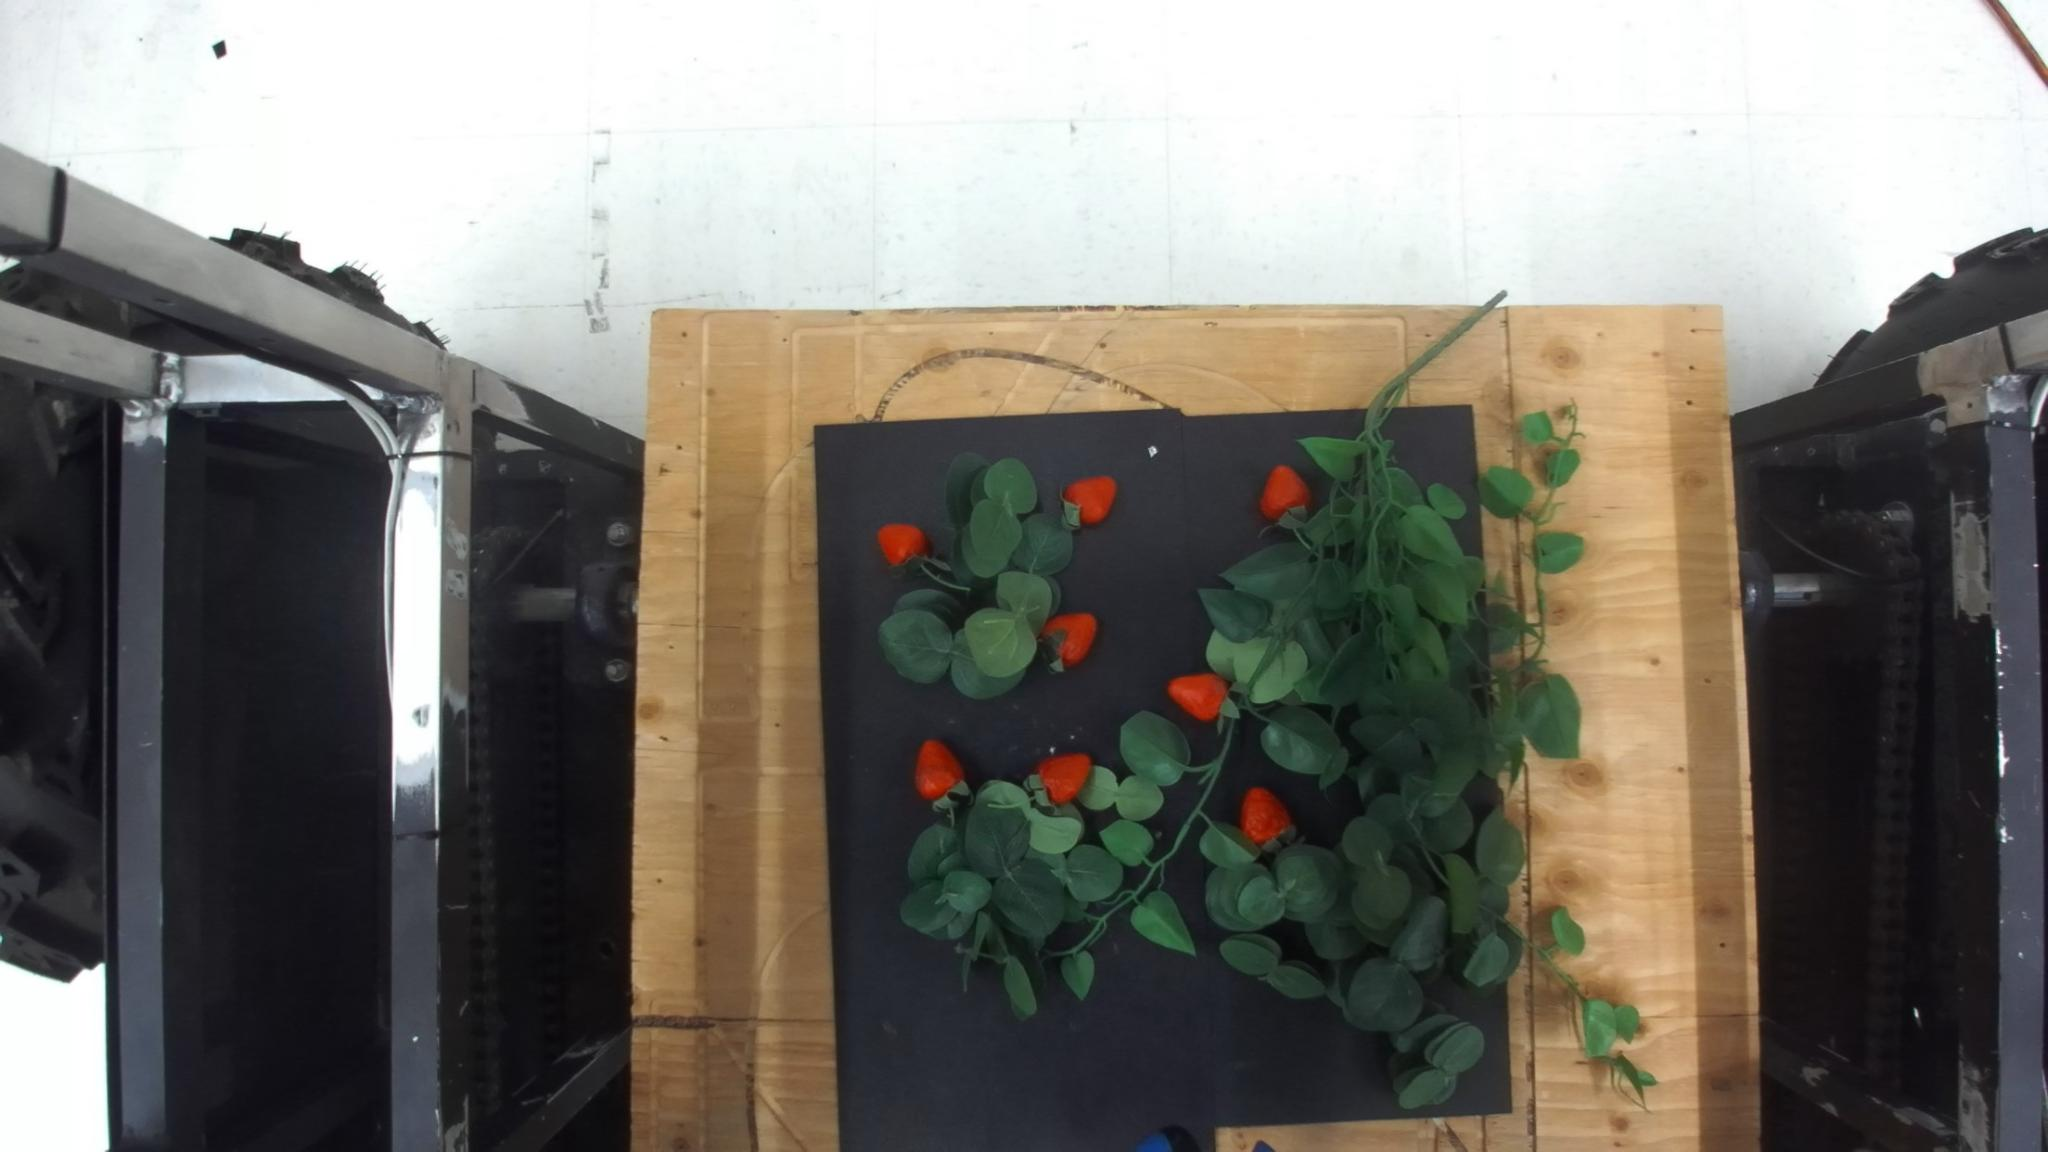strawberry: (909, 731, 971, 807), (1234, 782, 1295, 848), (1167, 670, 1229, 729), (1037, 751, 1096, 810), (1044, 613, 1100, 668), (873, 519, 931, 572), (1260, 461, 1312, 519), (1056, 477, 1115, 527)
